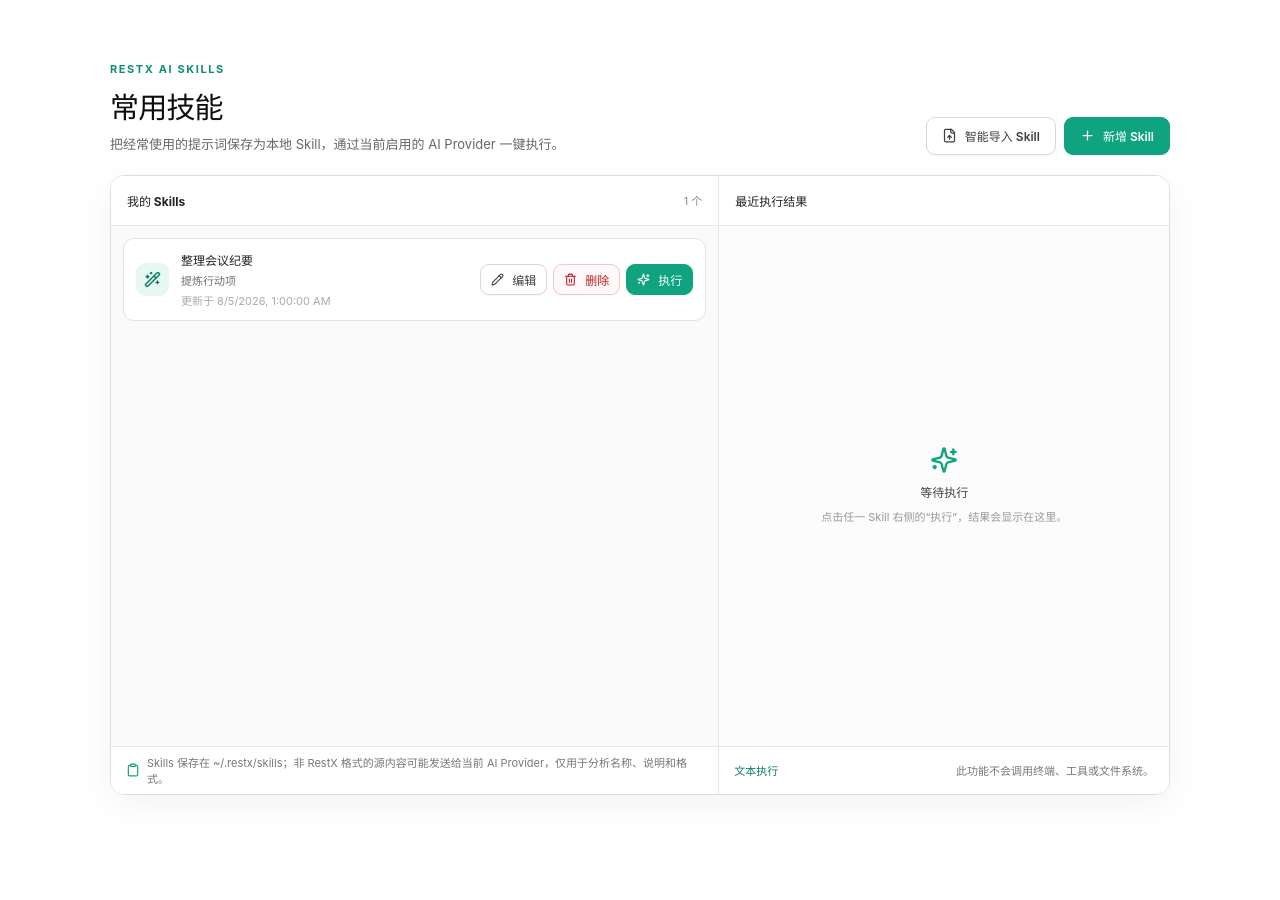
Test: FrequentSkillsPage › creates a skill through the validated editor
Expected: the text "整理会议纪要" is shown, [181,253,253,268]
Click the button "新增 Skill".
click(1117, 136)  # box [1064,117,1170,155]
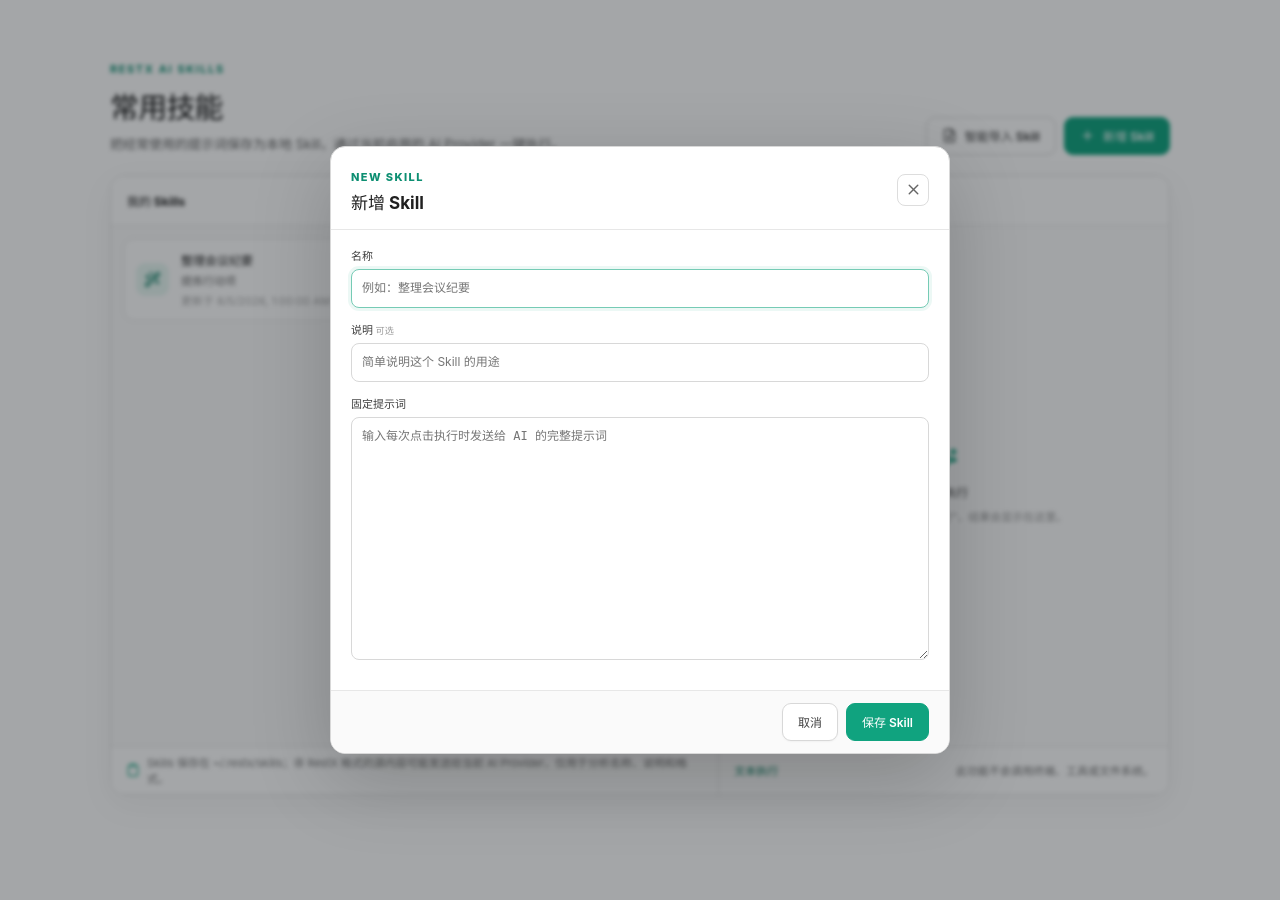
Type "新技能" into the field with placeholder "例如：整理会议纪要".
click(640, 289); type("新技能")  # box [351,269,929,308]
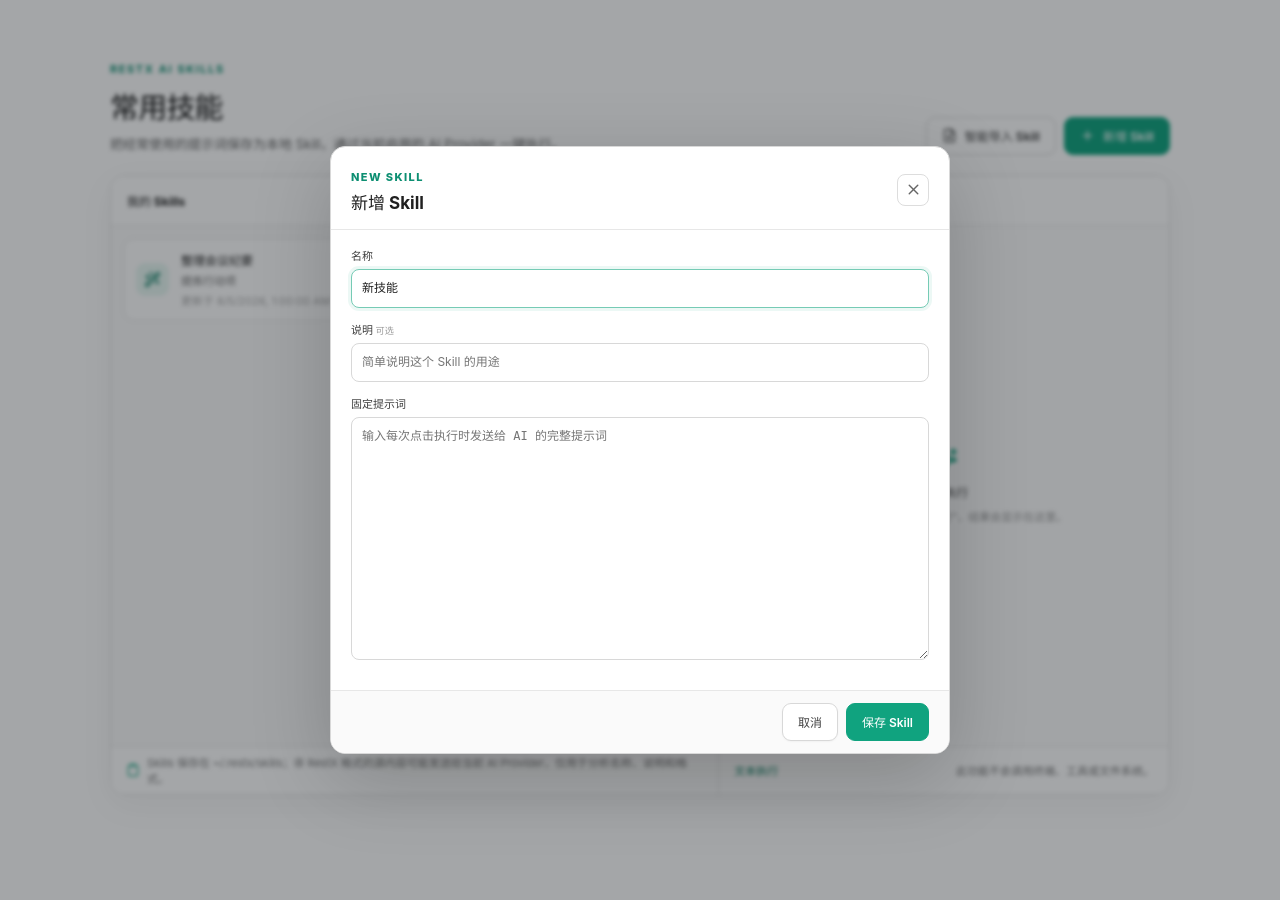
Type "固定提示词" into the text box with placeholder "输入每次点击执行时发送给 AI 的完整提示词".
click(640, 538); type("固定提示词")  # box [351,416,929,660]
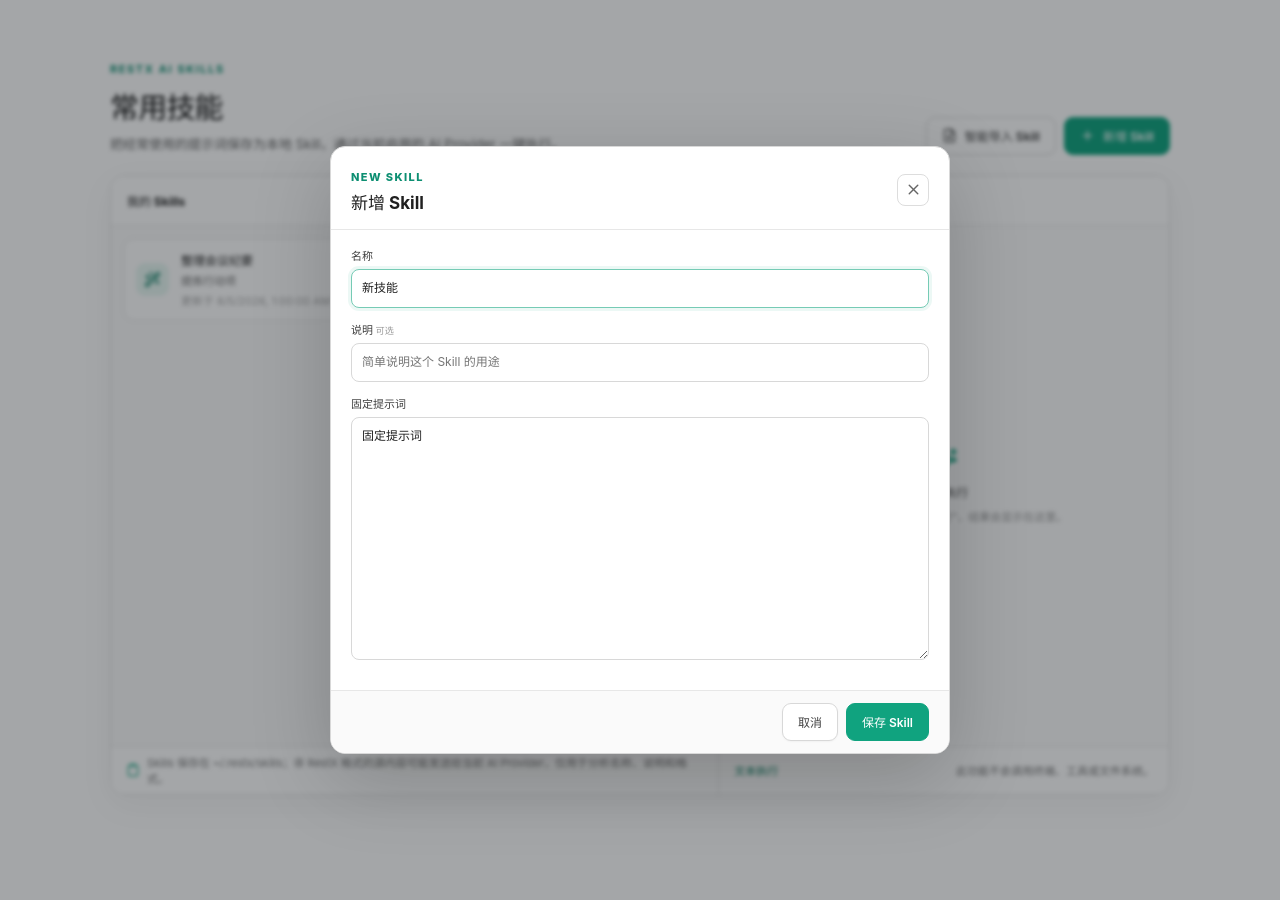
Click the button "保存 Skill".
click(887, 722)  # box [846,703,929,741]
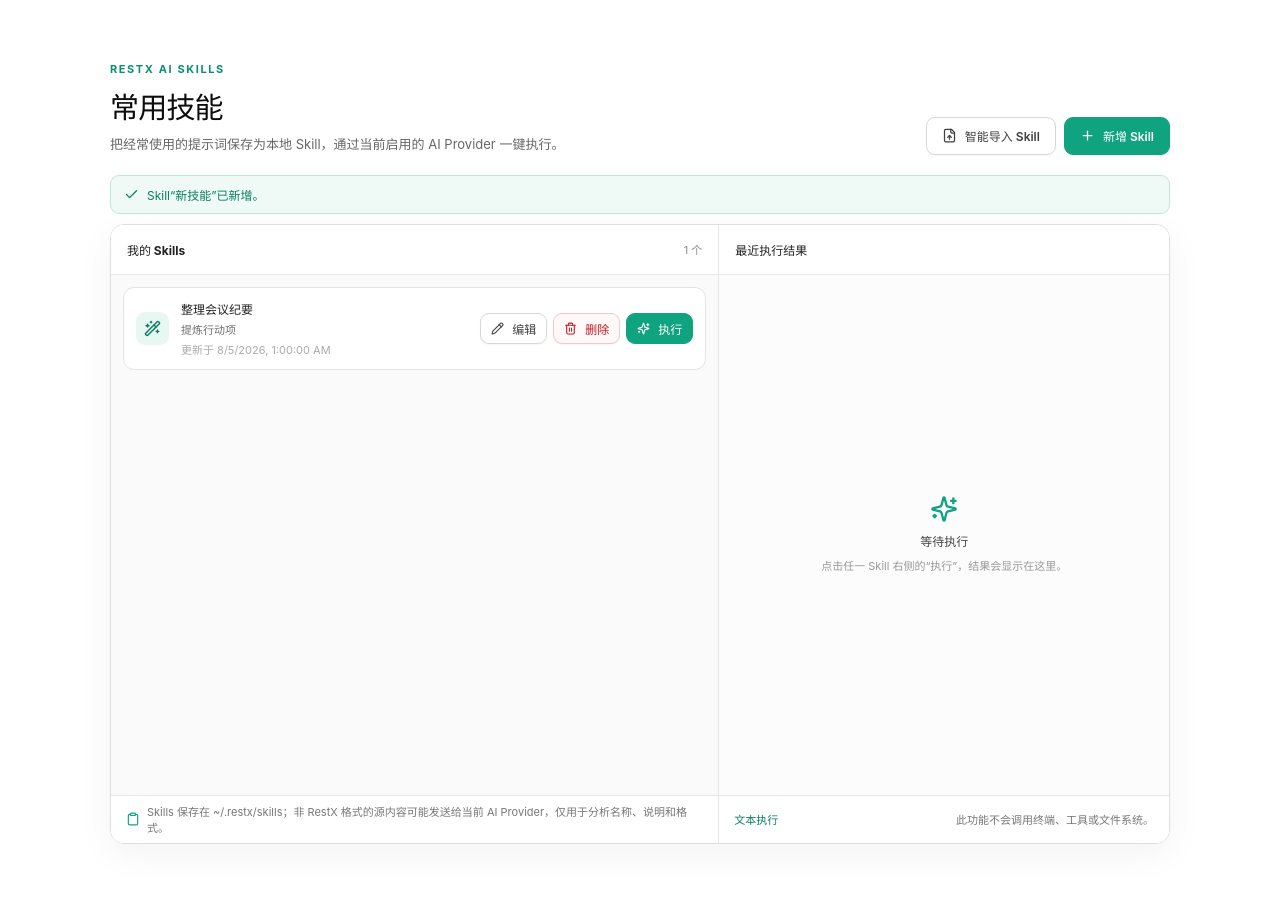
Result: the text "Skill“新技能”已新增。" is shown at [147,186,265,203]
